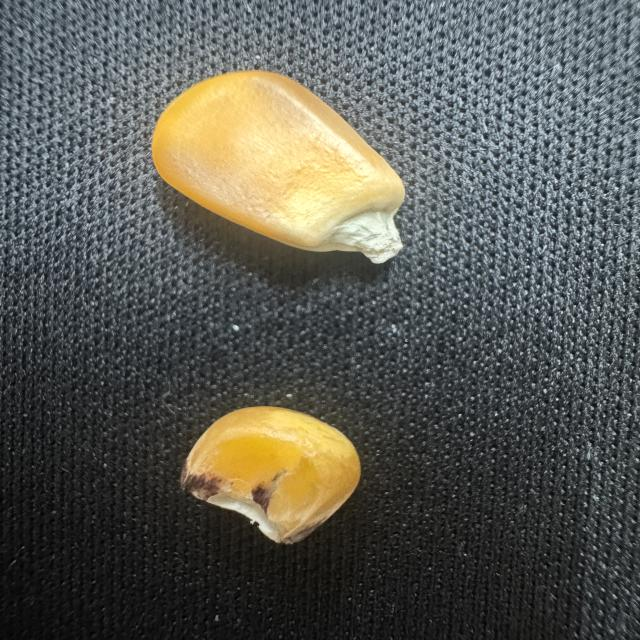Bad-Seed: (174, 392, 368, 566)
Good-Seed: (142, 61, 416, 300)
